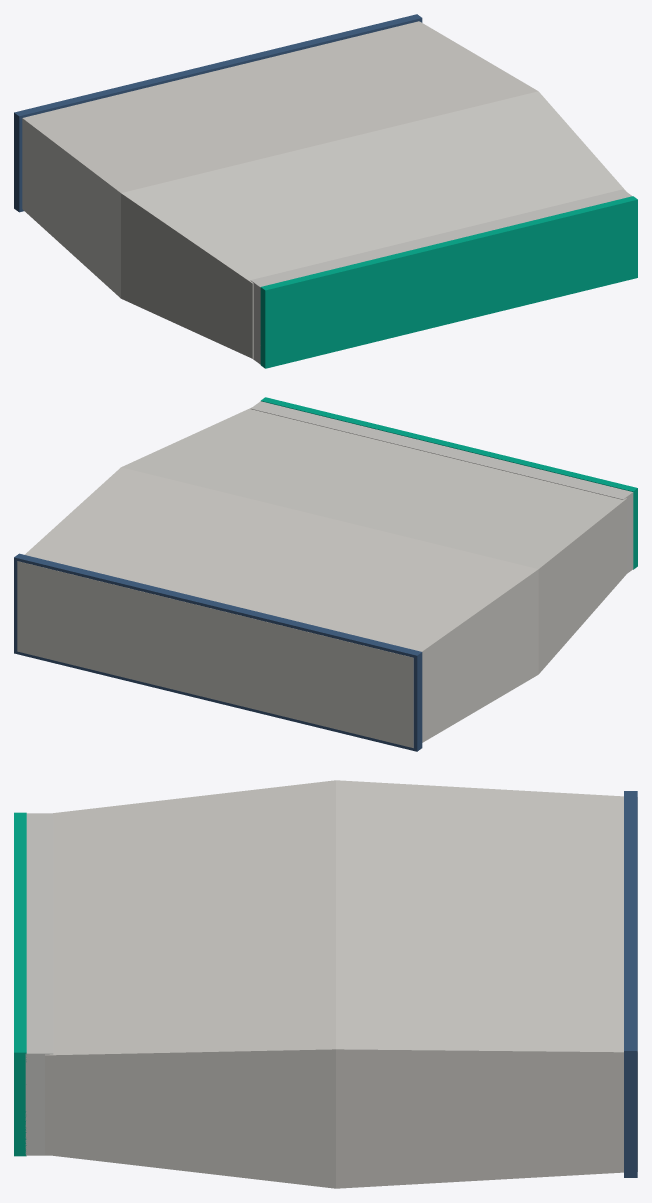
File: sac-25kg.glb
3 views of the same model, one above another, from view 1: azimuth 30°, elevation 25°; view 2: azimuth 150°, elevation 25°; view 3: azimuth 270°, elevation 25° (orthographic). The views are drawn at different scales.
Visible parts, largest first — view 1: bag-body, top-edge, folded-top, bottom-seam; view 2: bag-body, bottom-seam, folded-top, top-edge; view 3: bag-body, folded-top, bottom-seam, top-edge.
Boxes of the visible parts, box(x1,y1,x2,y2) form: bag-body: box(22, 21, 625, 358); top-edge: box(260, 196, 637, 368); folded-top: box(250, 189, 632, 364); bottom-seam: box(14, 14, 422, 212); bag-body: box(17, 407, 626, 747); bottom-seam: box(14, 553, 422, 751); folded-top: box(250, 401, 633, 573); top-edge: box(261, 397, 637, 569); bag-body: box(45, 780, 637, 1188); folded-top: box(25, 813, 53, 1155); bottom-seam: box(624, 791, 637, 1177); top-edge: box(14, 812, 26, 1156).
Size of the model in its own units: 1.16 by 0.288 by 1.14.
